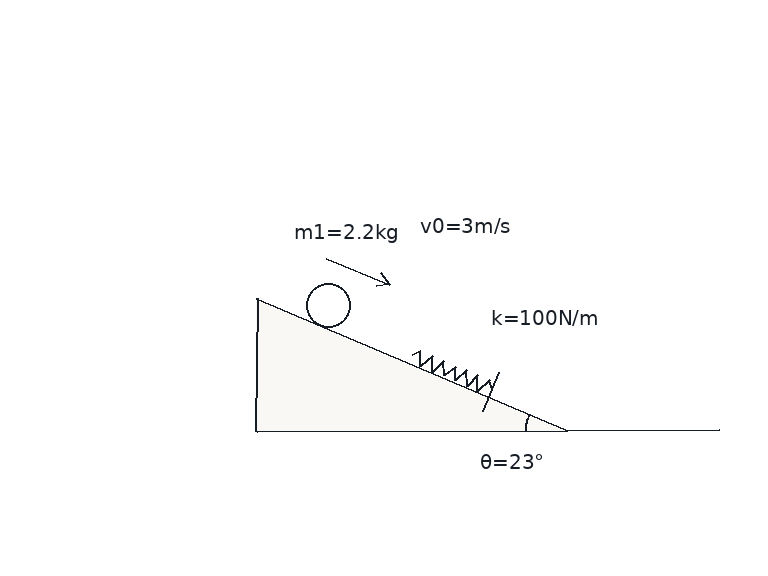ball: (304, 281, 352, 329)
ramp: (255, 297, 568, 432)
spring: (410, 349, 494, 392)
